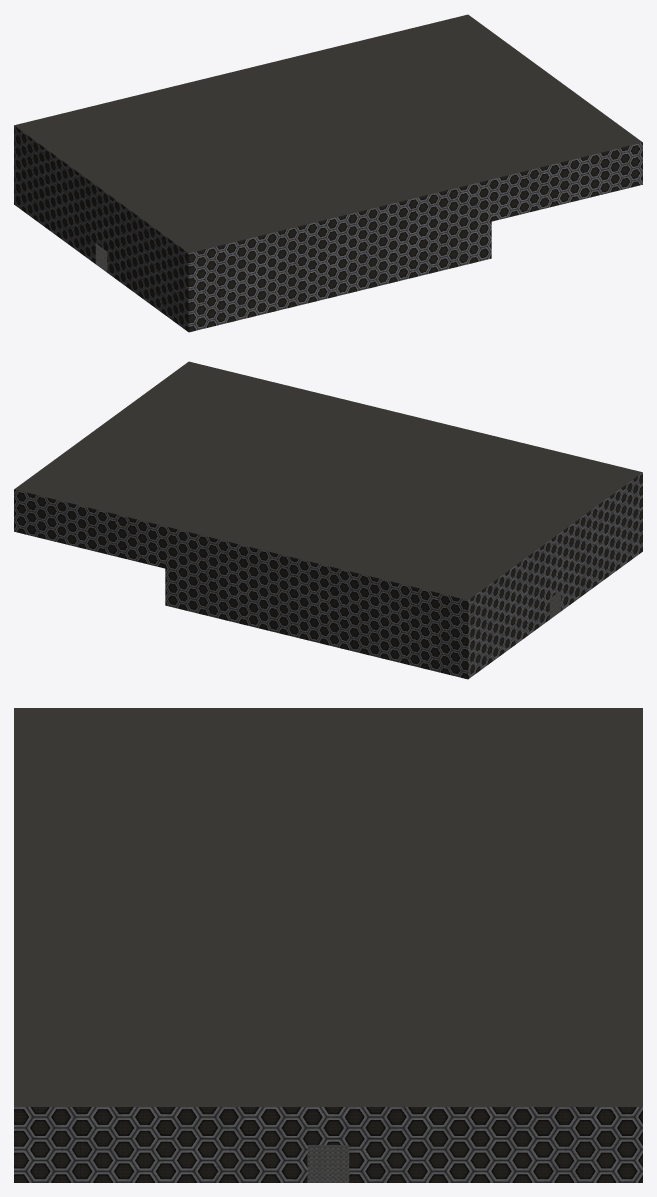
The model's file is room-2-3.dae.
3 renders of one model, top to bottom at view 1: azimuth 30°, elevation 25°; view 2: azimuth 150°, elevation 25°; view 3: azimuth 270°, elevation 25°, orthographic. The views are drawn at different scales.
Visible parts, largest first — view 1: Room-col; view 2: Room-col; view 3: Room-col.
Boxes of the visible parts, x1,y1,x2,y2 form: Room-col: (14, 14, 642, 332); Room-col: (14, 361, 642, 679); Room-col: (14, 708, 642, 1182).
Size of what is drawn, in the model's own units: 90 by 60 by 15.
